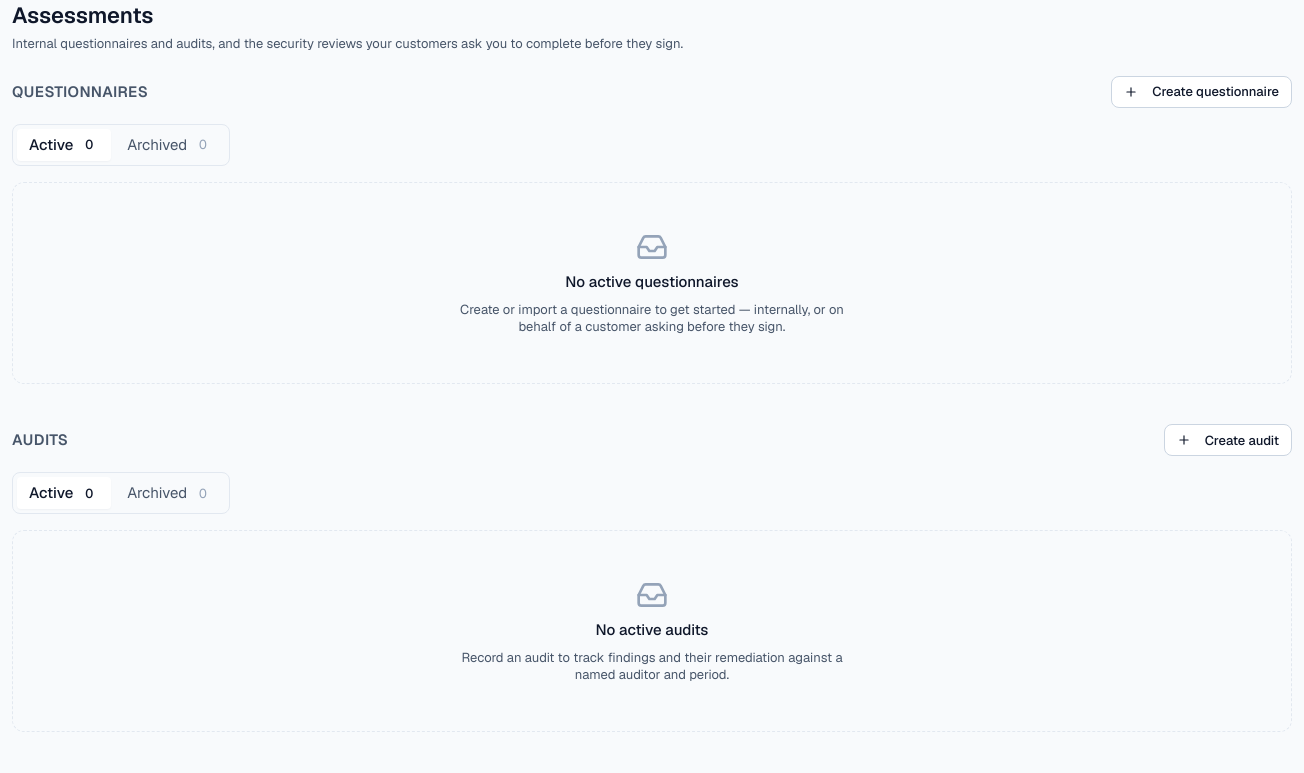
Scenario: Audits › custom is an explicit alternative with its own wording
Click the button "Create audit".
click(1228, 440)  # box [1164,424,1292,456]
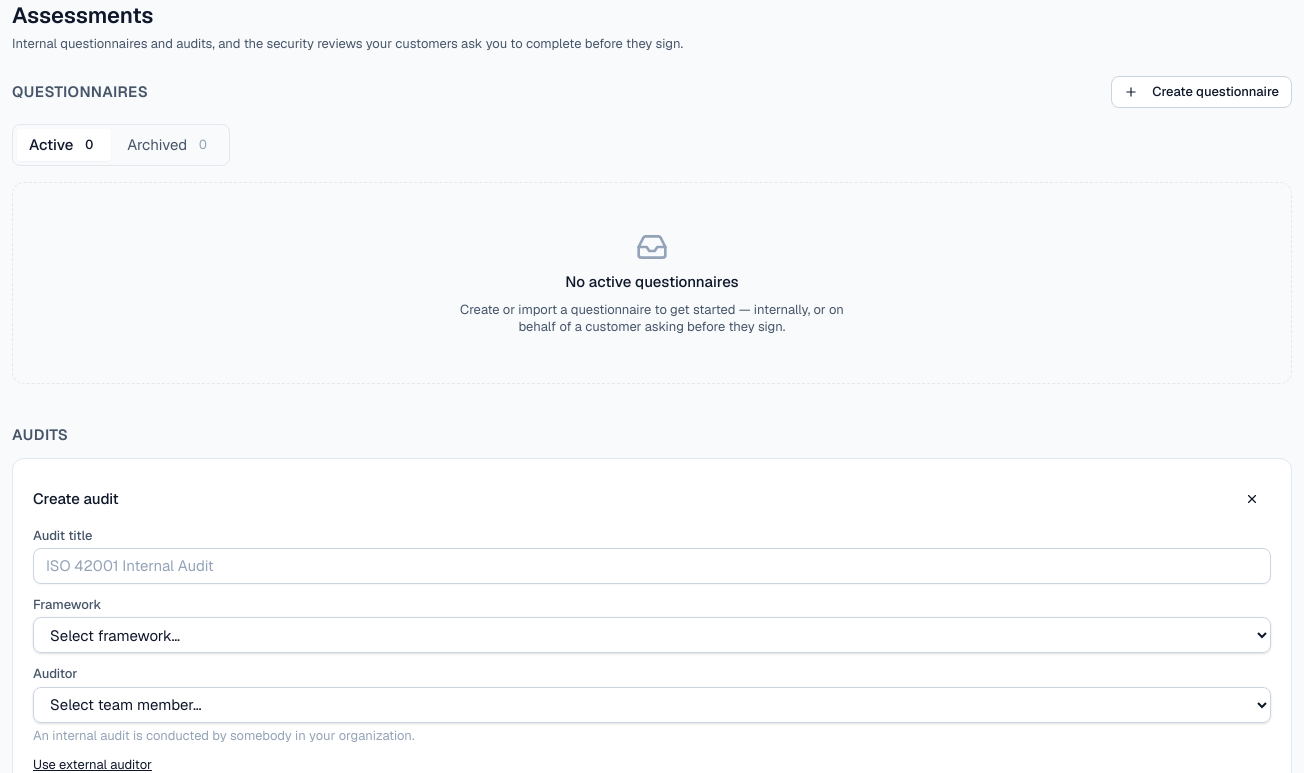
Select "Custom / No framework" in the dropdown labelled "Framework" at x=652, y=635, box [33,617,1271,653]
(page scrolled)
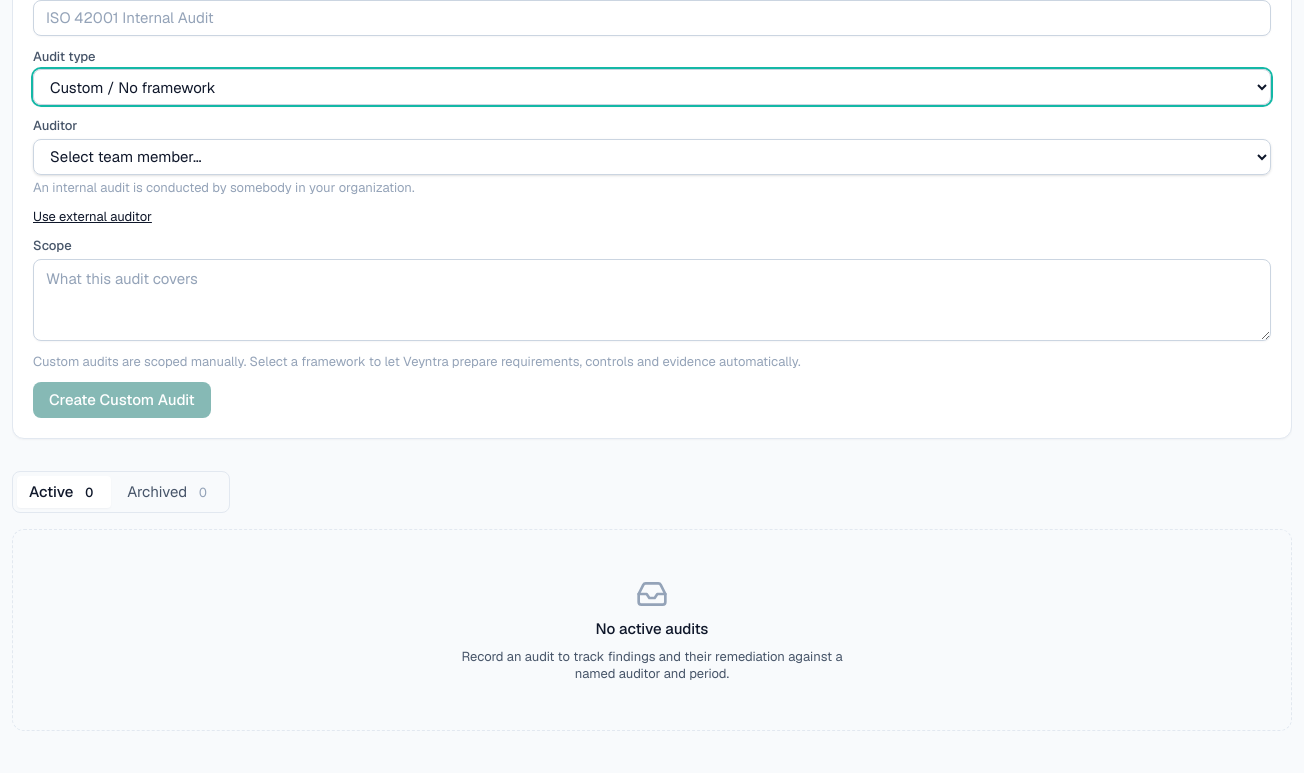
Check: the button "Create Custom Audit" is disabled, box [33,382,211,418]
Check: the text "Custom audits are scoped manually." is shown, box [33,353,800,370]
